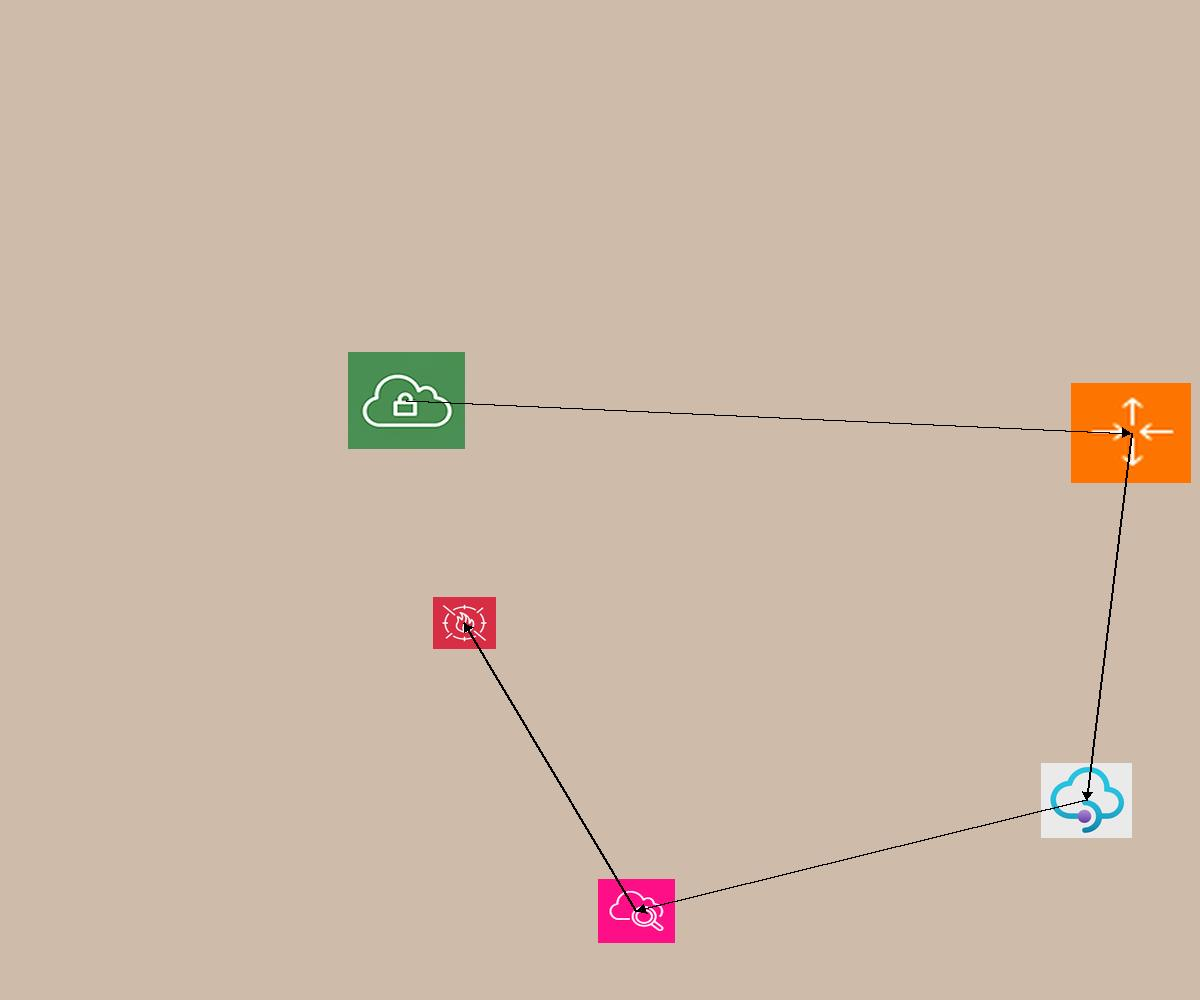AWS-CloudWatch: (598, 879, 675, 943)
AWS-Private_vpc: (348, 352, 465, 449)
AWS-Scaling-group: (1071, 383, 1191, 483)
AWS-WAF: (433, 597, 496, 649)
Azure_api_gateway: (1041, 763, 1132, 838)
